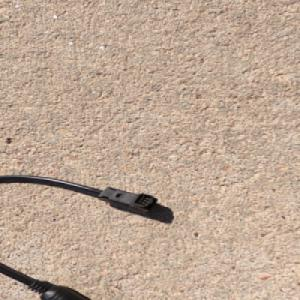Wire: (0, 174, 161, 300)
